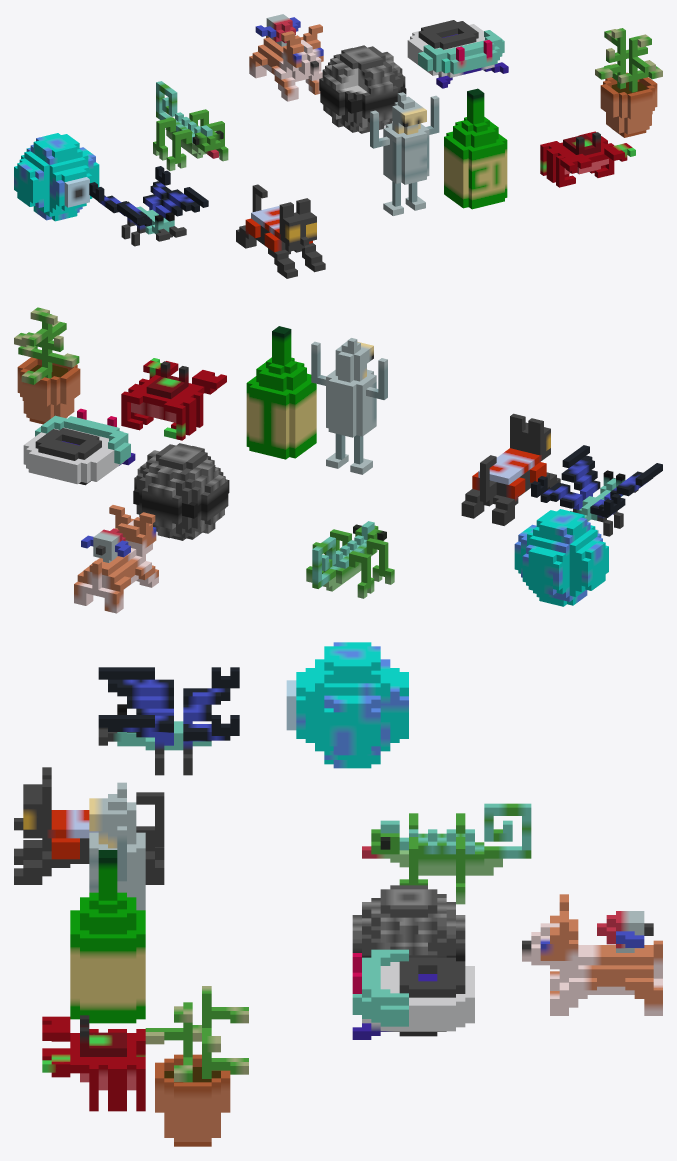
The model's file is ui_characters.dae.
3 renders of one model, top to bottom at view 1: azimuth 30°, elevation 25°; view 2: azimuth 150°, elevation 25°; view 3: azimuth 270°, elevation 25°, orthographic. The views are drawn at different scales.
Visible parts, largest first — view 1: ui_soju, ui_deathstar, ui_minimonster, ui_bender, ui_leonplant, ui_vacuumrobot, ui_cat, ui_robotcogi, ui_butterfly, ui_chameleon, ui_crab; view 2: ui_deathstar, ui_minimonster, ui_soju, ui_bender, ui_vacuumrobot, ui_robotcogi, ui_cat, ui_leonplant, ui_crab, ui_butterfly, ui_chameleon; view 3: ui_minimonster, ui_soju, ui_robotcogi, ui_vacuumrobot, ui_leonplant, ui_butterfly, ui_chameleon, ui_cat, ui_crab, ui_deathstar, ui_bender.
Boxes of the visible parts, left/top/right/bottom form: ui_soju: left=444, top=88, right=507, bottom=209; ui_deathstar: left=319, top=45, right=406, bottom=133; ui_minimonster: left=14, top=133, right=99, bottom=221; ui_bender: left=370, top=92, right=439, bottom=215; ui_leonplant: left=595, top=28, right=662, bottom=137; ui_vacuumrobot: left=407, top=20, right=508, bottom=88; ui_cat: left=236, top=184, right=325, bottom=278; ui_robotcogi: left=249, top=14, right=323, bottom=101; ui_butterfly: left=89, top=166, right=208, bottom=246; ui_chameleon: left=153, top=81, right=228, bottom=170; ui_crab: left=540, top=131, right=635, bottom=187; ui_deathstar: left=133, top=443, right=229, bottom=540; ui_minimonster: left=514, top=509, right=608, bottom=606; ui_soju: left=246, top=326, right=316, bottom=459; ui_bender: left=311, top=338, right=387, bottom=474; ui_vacuumrobot: left=23, top=408, right=135, bottom=485; ui_robotcogi: left=74, top=505, right=158, bottom=613; ui_cat: left=461, top=413, right=560, bottom=525; ui_leonplant: left=14, top=307, right=80, bottom=424; ui_crab: left=121, top=358, right=226, bottom=440; ui_butterfly: left=531, top=445, right=662, bottom=536; ui_chameleon: left=306, top=521, right=394, bottom=598; ui_minimonster: left=286, top=642, right=408, bottom=768; ui_soju: left=70, top=850, right=145, bottom=1023; ui_robotcogi: left=522, top=894, right=662, bottom=1015; ui_vacuumrobot: left=352, top=949, right=474, bottom=1039; ui_leonplant: left=145, top=986, right=248, bottom=1146; ui_butterfly: left=98, top=667, right=239, bottom=775; ui_chameleon: left=362, top=803, right=531, bottom=904; ui_cat: left=14, top=767, right=164, bottom=884; ui_crab: left=42, top=1015, right=145, bottom=1111; ui_deathstar: left=352, top=885, right=465, bottom=961; ui_bender: left=89, top=782, right=145, bottom=910.
Bounding box in the file's own units: 105 × 21 × 69.
1 material, 1 textured.
